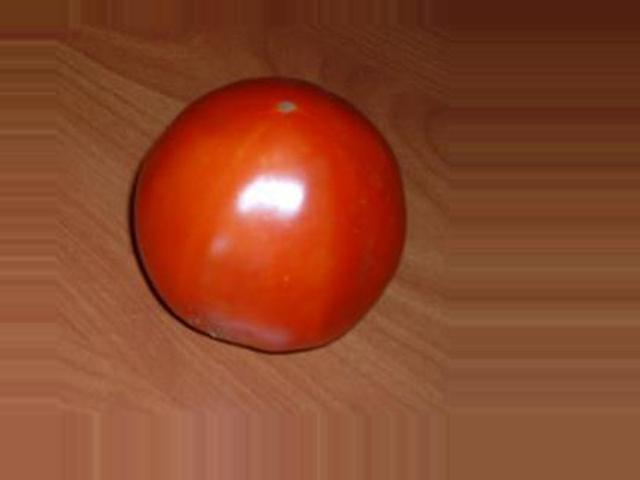tomato: (129, 75, 409, 351)
